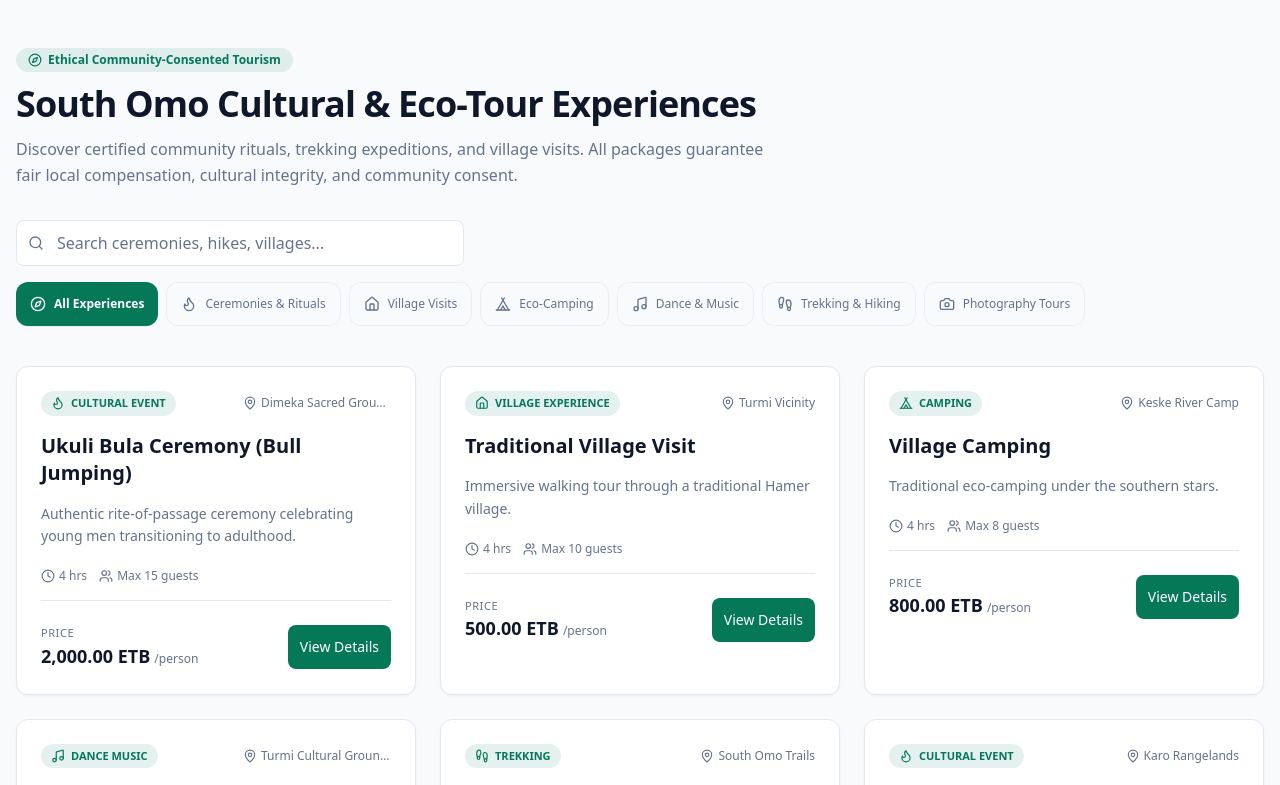
Scenario: Tourism Service Packages List (F-302) › displays empty state and resets filters when no match found
The width and height of the screenshot is (1280, 785).
Check: the heading "Ukuli Bula Ceremony (Bull Jumping)" is shown, box [41,432,301,486]
Type "NonexistentSearchQuery123" into the field with placeholder "Search ceremonies, hikes, villages..." at (240,243), box [16,220,464,266]
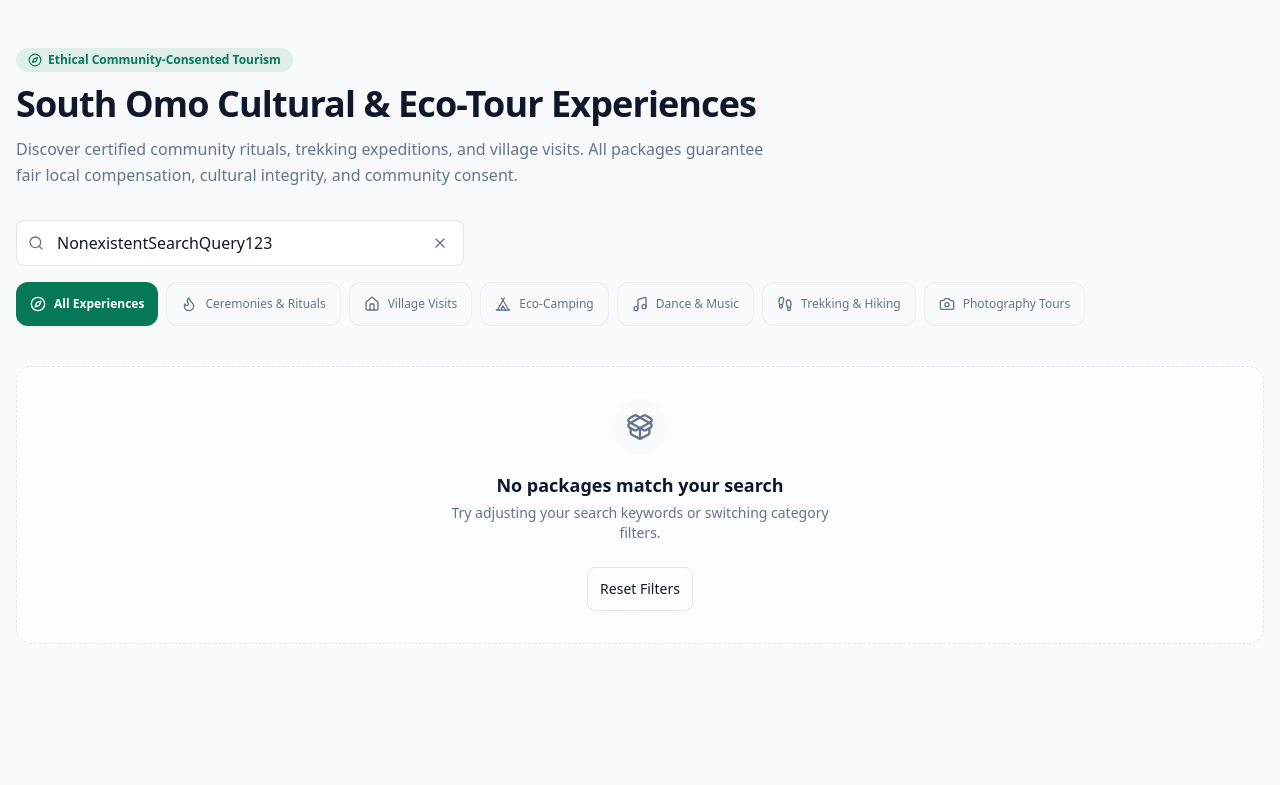
Check: the heading "No packages match your search" is shown, box [496,471,784,499]
Click the button "Reset Filters" at (640,589), box [587,567,693,611]
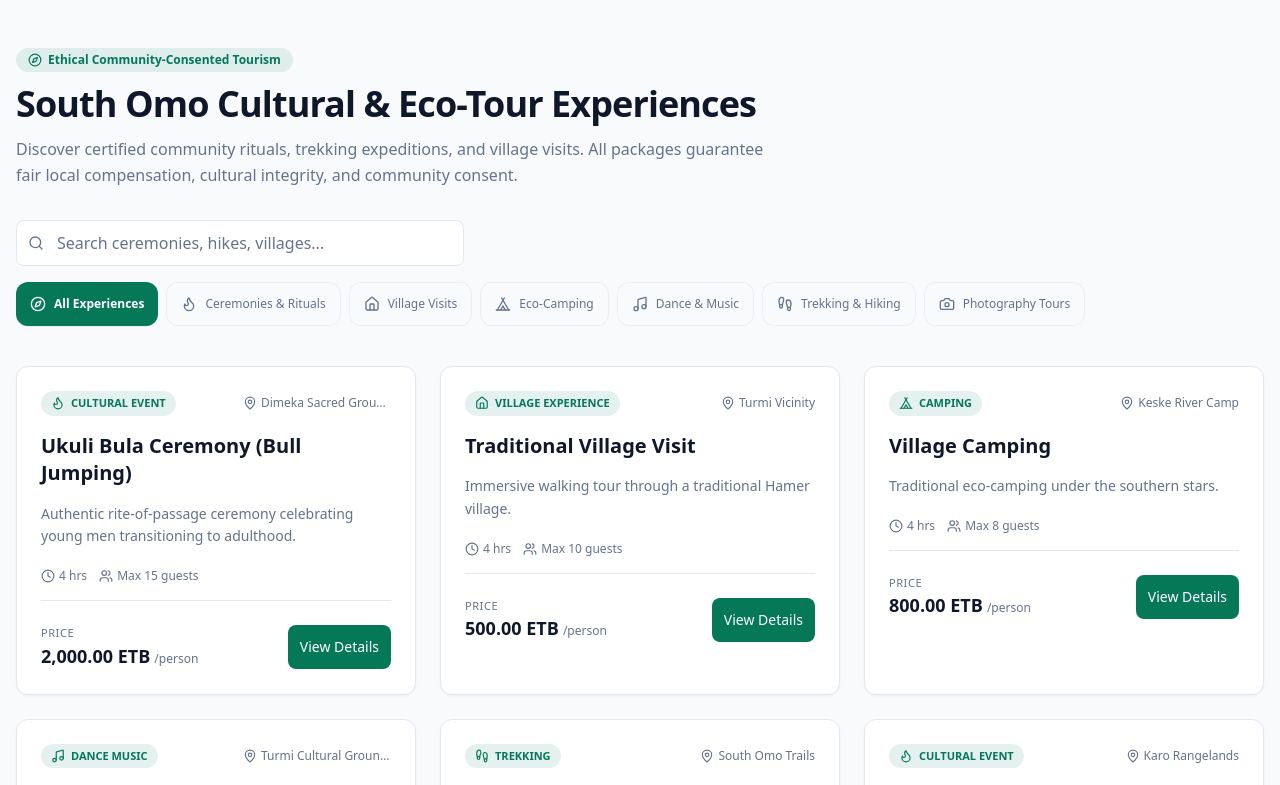
Check: the heading "Ukuli Bula Ceremony (Bull Jumping)" is shown, box [41,432,301,486]
